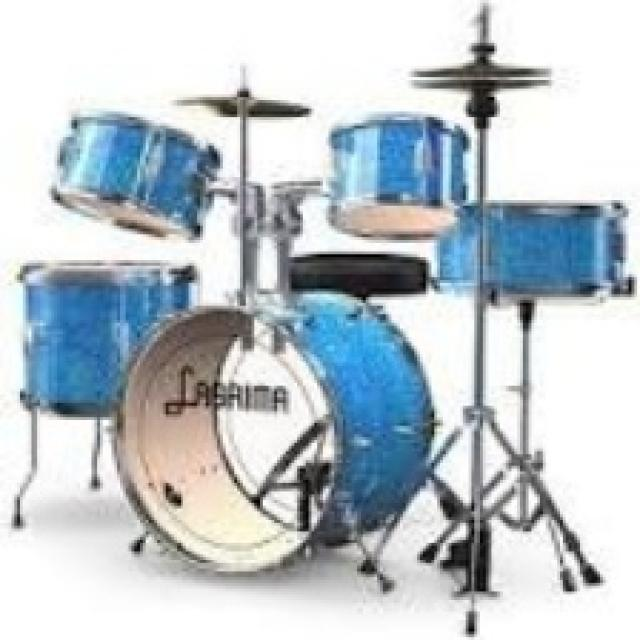drums: (0, 5, 630, 577)
